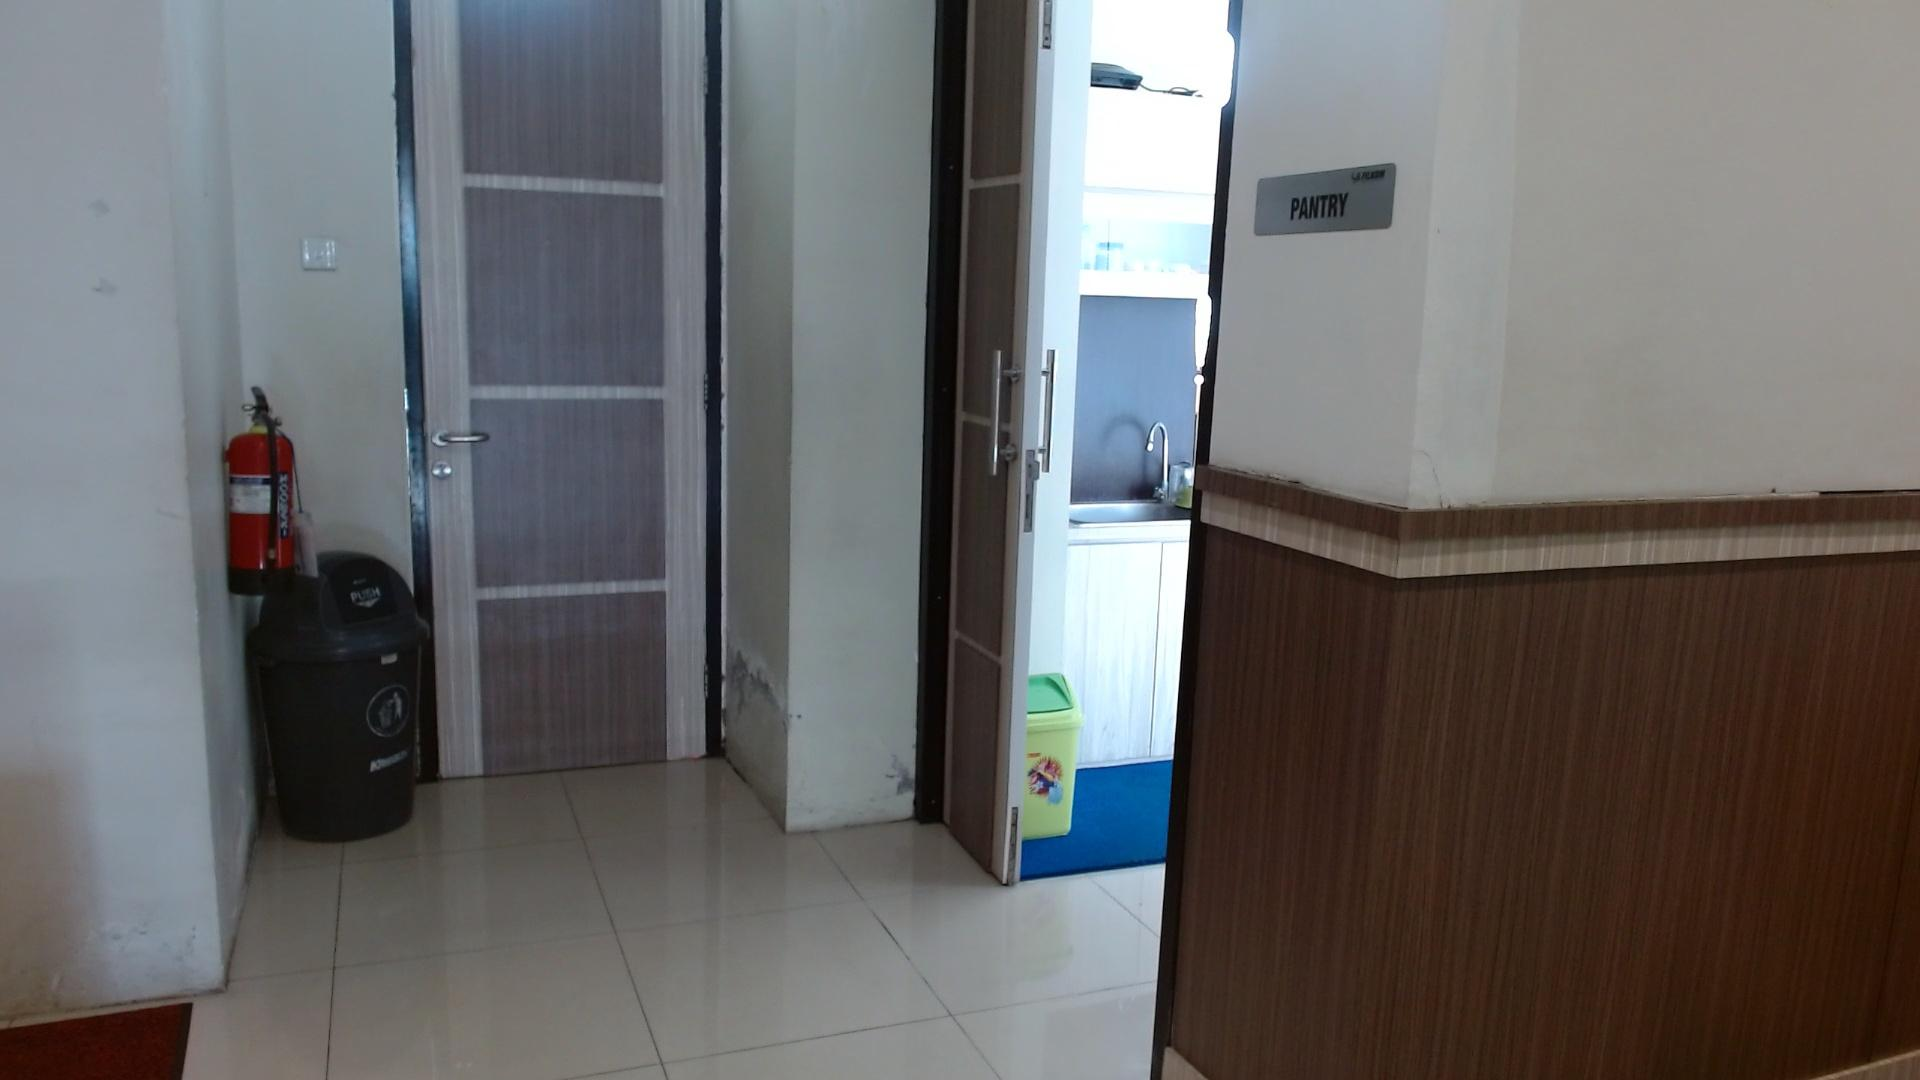plate: (1254, 162, 1398, 237)
